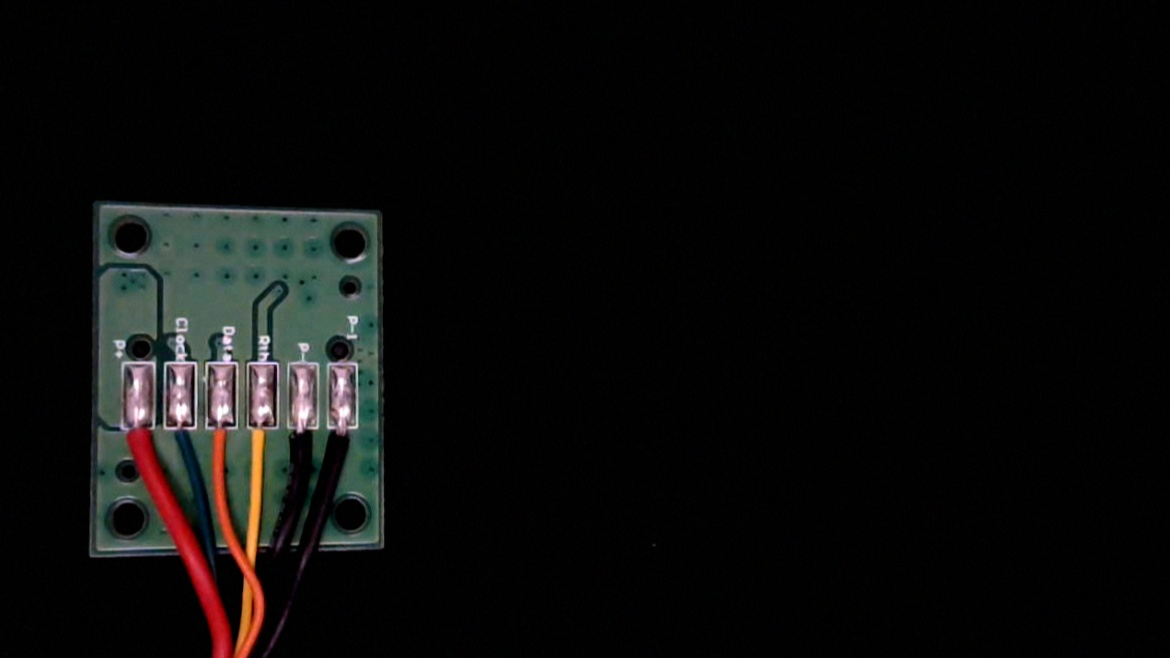Black: (287, 411, 318, 475)
Black1: (328, 408, 361, 477)
Green: (164, 408, 201, 481)
Orange: (205, 408, 239, 483)
Red: (120, 410, 156, 483)
Yellow: (244, 412, 279, 488)
